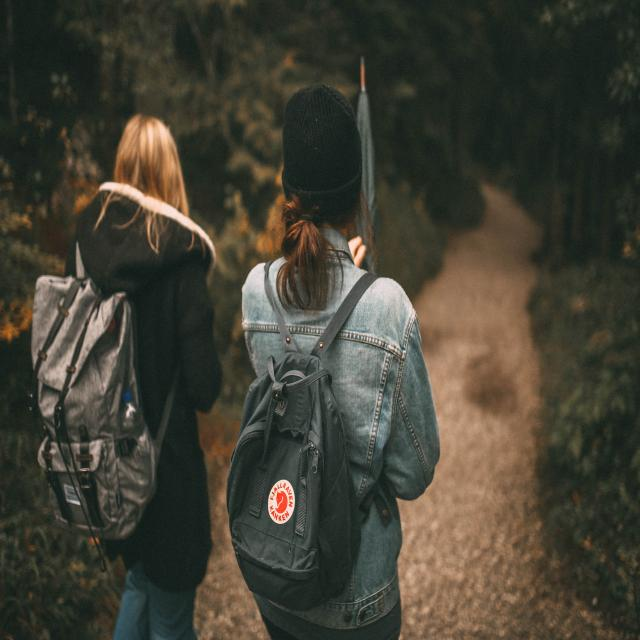backpack: (230, 262, 378, 608), (32, 229, 183, 539)
